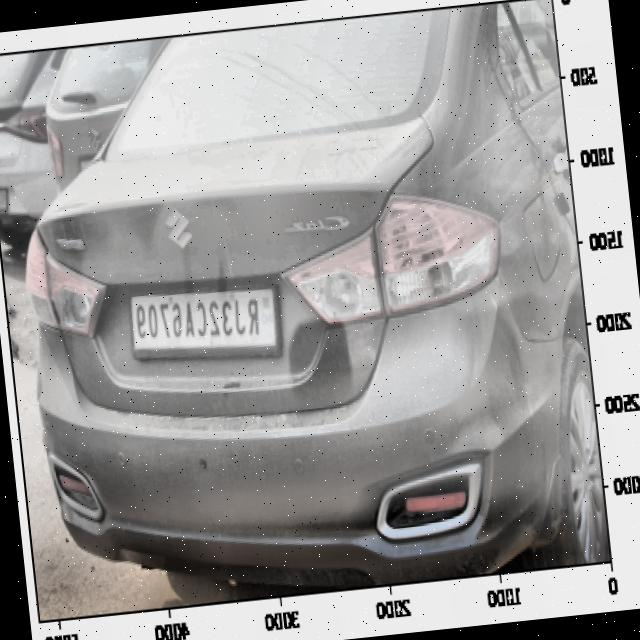license_plate: (125, 284, 266, 358)
